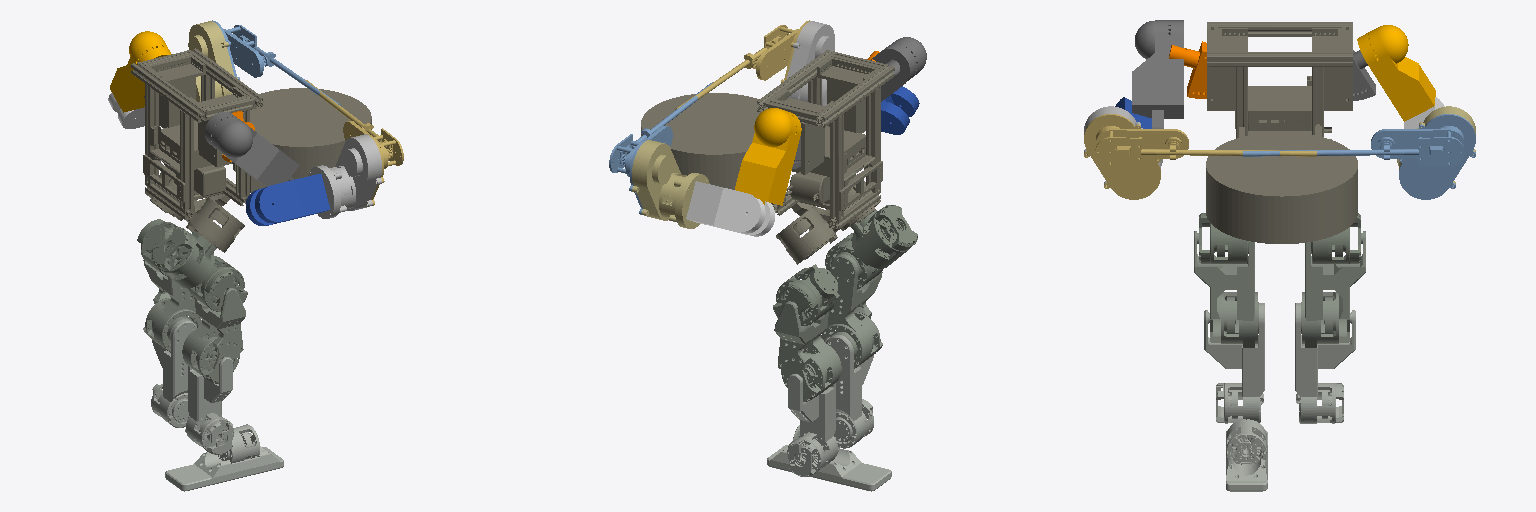
--- Render facts (derived) ---
Views: 3 orthographic renders of the robot side by side, from view 1: azimuth 30°, elevation 25°; view 2: azimuth 150°, elevation 25°; view 3: azimuth 270°, elevation 25°.
Model our_robot_251127 with 28 links and 27 joints (22 revolute, 5 fixed), rooted at base, posed every joint at zero.
Visible links, largest first — view 1: base, arm_right_wrist_attachment, leg_right_hip_pitch, arm_right_upper_arm, leg_right_ankle_roll, leg_right_knee_pitch, arm_right_fore_arm, leg_left_knee_pitch, leg_right_hip_roll, leg_left_hip_pitch, arm_left_upper_arm, assembly_3 (+5 smaller); view 2: base, arm_left_upper_arm, leg_left_hip_pitch, arm_left_wrist_attachment, leg_left_knee_pitch, leg_right_hip_pitch, arm_left_fore_arm, leg_right_knee_pitch, leg_right_hip_roll, leg_left_hip_yaw, leg_right_ankle_roll, assembly_5 (+5 smaller); view 3: base, assembly_3, assembly_5, arm_right_upper_arm, leg_right_hip_pitch, leg_left_hip_pitch, arm_left_upper_arm, leg_left_knee_pitch, leg_right_knee_pitch, leg_right_ankle_roll, leg_right_hip_yaw, leg_left_hip_yaw (+2 smaller).
Boxes of the visible links, x1,y1,x2,y2 form: base: (131, 48, 371, 252); arm_right_wrist_attachment: (308, 134, 381, 218); leg_right_hip_pitch: (182, 288, 245, 383); arm_right_upper_arm: (205, 112, 299, 186); leg_right_ankle_roll: (165, 424, 283, 491); leg_right_knee_pitch: (185, 357, 233, 454); arm_right_fore_arm: (246, 174, 330, 225); leg_left_knee_pitch: (151, 320, 196, 427); leg_right_hip_roll: (152, 227, 216, 288); leg_left_hip_pitch: (143, 260, 201, 352); arm_left_upper_arm: (110, 31, 170, 112); assembly_3: (212, 20, 340, 105); base: (641, 50, 894, 264); arm_left_upper_arm: (735, 108, 801, 205); leg_left_hip_pitch: (774, 301, 841, 401); arm_left_wrist_attachment: (632, 140, 709, 228); leg_left_knee_pitch: (787, 374, 838, 476); leg_right_hip_pitch: (821, 254, 882, 368); arm_left_fore_arm: (686, 181, 774, 236); leg_right_knee_pitch: (826, 335, 873, 448); leg_right_hip_roll: (851, 205, 917, 268); leg_left_hip_yaw: (773, 264, 839, 325); leg_right_ankle_roll: (767, 425, 891, 491); assembly_5: (675, 20, 809, 109); base: (1206, 22, 1357, 243); assembly_3: (1243, 114, 1475, 199); assembly_5: (1084, 114, 1316, 199); arm_right_upper_arm: (1132, 20, 1183, 128); leg_right_hip_pitch: (1194, 231, 1258, 347); leg_left_hip_pitch: (1301, 231, 1365, 347); arm_left_upper_arm: (1357, 25, 1435, 121); leg_left_knee_pitch: (1295, 303, 1355, 423); leg_right_knee_pitch: (1204, 303, 1264, 423); leg_right_ankle_roll: (1226, 419, 1267, 491); leg_right_hip_yaw: (1199, 213, 1248, 263); leg_left_hip_yaw: (1311, 213, 1360, 263).
Bounding box of the posed robot: 0.4913 × 0.6695 × 0.8133 m (x, y, z).
19 mesh visuals loaded from 24 distinct referenced files (19 binary STL); not drawn: 5 (reference not matched to a file when rendering).

robot.urdf — our_robot_251127:
<?xml version="1.0" ?>
<!-- Generated using onshape-to-robot -->
<!-- Onshape https://cad.onshape.com/documents/b79563c6b118af5153e16b95/w/07852d0b8411373f3cccadf1/e/af8d9cc5bcfd9d9f97125859 -->
<robot name="our_robot_251127">
  <!-- Link base -->
  <link name="base">
    <inertial>
      <origin xyz="0.0301256 0.000805373 0.658389" rpy="0 0 0"/>
      <mass value="4.42875"/>
      <inertia ixx="0.0542572" ixy="-0.000418288" ixz="-0.000518312" iyy="0.0707136" iyz="1.73031e-05" izz="0.0573367"/>
    </inertial>
    <!-- Part base_parts -->
    <collision>
      <origin xyz="-6.93889e-18 7.58942e-18 0.71" rpy="-1.13243e-14 -5.13117e-16 -1.5708"/>
      <geometry>
        <box size="0.15 0.14 0.23"/>
      </geometry>
    </collision>
    <visual>
      <origin xyz="0.0301256 0.000805373 0.658389" rpy="0 -0 0"/>
      <geometry>
        <mesh filename="package://assets/merged/base_visual.stl"/>
      </geometry>
      <material name="base_parts_material">
        <color rgba="0.52207 0.511557 0.454713 0.886298"/>
      </material>
    </visual>
  </link>
  <!-- Frame trunk (dummy link + fixed joint) -->
  <link name="trunk">
    <origin xyz="0 0 0" rpy="0 -0 0"/>
    <inertial>
      <origin xyz="0 0 0" rpy="0 0 0"/>
      <mass value="1e-9"/>
      <inertia ixx="0" ixy="0" ixz="0" iyy="0" iyz="0" izz="0"/>
    </inertial>
  </link>
  <joint name="trunk_frame" type="fixed">
    <origin xyz="-0.00025 2.39394e-17 0.7205" rpy="-5.13117e-16 1.13243e-14 -1.20616e-15"/>
    <parent link="base"/>
    <child link="trunk"/>
    <axis xyz="0 0 0"/>
  </joint>
  <!-- Link imu_2 -->
  <link name="imu_2">
    <inertial>
      <origin xyz="3.00866e-18 9.72026e-19 0.0025" rpy="0 0 0"/>
      <mass value="0.00197704"/>
      <inertia ixx="1.11441e-07" ixy="-4.0275e-38" ixz="0" iyy="4.06118e-08" iyz="0" izz="1.43815e-07"/>
    </inertial>
    <!-- Part imu_2_parts -->
    <visual>
      <origin xyz="0 9.72026e-19 0.0025" rpy="6.12323e-17 -1.13243e-14 1.20616e-15"/>
      <geometry>
        <mesh filename="package://assets/merged/imu_2_visual.stl"/>
      </geometry>
      <material name="imu_2_parts_material">
        <color rgba="0.141176 0.694118 0.65098 1"/>
      </material>
    </visual>
  </link>
  <!-- Frame imu (dummy link + fixed joint) -->
  <link name="imu">
    <origin xyz="0 0 0" rpy="0 -0 0"/>
    <inertial>
      <origin xyz="0 0 0" rpy="0 0 0"/>
      <mass value="1e-9"/>
      <inertia ixx="0" ixy="0" ixz="0" iyy="0" iyz="0" izz="0"/>
    </inertial>
  </link>
  <joint name="imu_frame" type="fixed">
    <origin xyz="0 -6.33816e-19 0.005" rpy="0 -0 -9.54491e-32"/>
    <parent link="imu_2"/>
    <child link="imu"/>
    <axis xyz="0 0 0"/>
  </joint>
  <!-- Joint from base to imu_2 -->
  <joint name="imu" type="fixed">
    <origin xyz="0.061722 -5.97549e-17 0.68" rpy="-6.12323e-17 1.13243e-14 -1.20616e-15"/>
    <parent link="base"/>
    <child link="imu_2"/>
    <axis xyz="0 0 1"/>
    <limit effort="20" velocity="15"/>
    <joint_properties friction="0.1"/>
  </joint>
  <!-- Link leg_left_hip_roll -->
  <link name="leg_left_hip_roll">
    <inertial>
      <origin xyz="-0.00410941 -0.000112596 -0.0464623" rpy="0 0 0"/>
      <mass value="0.83786"/>
      <inertia ixx="0.000979918" ixy="6.45954e-06" ixz="-1.63173e-05" iyy="0.000896043" iyz="-5.43389e-06" izz="0.000727678"/>
    </inertial>
    <!-- Part leg_left_hip_roll_parts -->
    <visual>
      <origin xyz="-0.00410941 -0.000112596 -0.0464623" rpy="-3.37047e-15 -0.785398 1.29382e-14"/>
      <geometry>
        <mesh filename="package://assets/merged/leg_left_hip_roll_visual.stl"/>
      </geometry>
      <material name="leg_left_hip_roll_parts_material">
        <color rgba="0.514202 0.546917 0.498371 0.699497"/>
      </material>
    </visual>
  </link>
  <!-- Link leg_left_hip_yaw -->
  <link name="leg_left_hip_yaw">
    <inertial>
      <origin xyz="-0.00411632 -8.63203e-05 0.0463382" rpy="0 0 0"/>
      <mass value="0.837683"/>
      <inertia ixx="0.000979031" ixy="-1.13217e-06" ixz="1.96352e-05" iyy="0.000898166" iyz="-5.91541e-06" izz="0.000724287"/>
    </inertial>
    <!-- Part leg_left_hip_yaw_parts -->
    <visual>
      <origin xyz="-0.00411632 -8.63203e-05 0.0463382" rpy="-3.14159 -0.785398 -1.5708"/>
      <geometry>
        <mesh filename="package://assets/merged/leg_left_hip_yaw_visual.stl"/>
      </geometry>
      <material name="leg_left_hip_yaw_parts_material">
        <color rgba="0.514113 0.546836 0.49828 0.699434"/>
      </material>
    </visual>
  </link>
  <!-- Link leg_left_hip_pitch -->
  <link name="leg_left_hip_pitch">
    <inertial>
      <origin xyz="0.0030405 0.120388 0.0210924" rpy="0 0 0"/>
      <mass value="0.947974"/>
      <inertia ixx="0.00286449" ixy="0.00012235" ixz="-2.15676e-05" iyy="0.00102465" iyz="0.000265775" izz="0.00259958"/>
    </inertial>
    <!-- Part leg_left_hip_pitch_parts -->
    <collision>
      <origin xyz="0.00597627 0.039 0.0295" rpy="1.5708 1.5708 0"/>
      <geometry>
        <cylinder length="0.13" radius="0.05"/>
      </geometry>
    </collision>
    <visual>
      <origin xyz="0.0030405 0.120388 0.0210924" rpy="1.5708 -7.51238e-15 -6.41154e-15"/>
      <geometry>
        <mesh filename="package://assets/merged/leg_left_hip_pitch_visual.stl"/>
      </geometry>
      <material name="leg_left_hip_pitch_parts_material">
        <color rgba="0.562885 0.5918 0.548895 0.734403"/>
      </material>
    </visual>
  </link>
  <!-- Link leg_left_knee_pitch -->
  <link name="leg_left_knee_pitch">
    <inertial>
      <origin xyz="-4.14041e-05 -0.112249 0.0257397" rpy="0 0 0"/>
      <mass value="0.653864"/>
      <inertia ixx="0.00230126" ixy="-4.24923e-07" ixz="1.36589e-06" iyy="0.000559753" iyz="3.7889e-05" izz="0.00203727"/>
    </inertial>
    <!-- Part leg_left_knee_pitch_parts -->
    <collision>
      <origin xyz="-5.40778e-15 -0.115 0.022" rpy="-1.5708 1.5708 0"/>
      <geometry>
        <cylinder length="0.15" radius="0.04"/>
      </geometry>
    </collision>
    <visual>
      <origin xyz="-4.14041e-05 -0.112249 0.0257397" rpy="1.5708 1.51122e-14 3.14159"/>
      <geometry>
        <mesh filename="package://assets/merged/leg_left_knee_pitch_visual.stl"/>
      </geometry>
      <material name="leg_left_knee_pitch_parts_material">
        <color rgba="0.664553 0.686049 0.654152 0.805901"/>
      </material>
    </visual>
  </link>
  <!-- Link leg_left_ankle_pitch -->
  <link name="leg_left_ankle_pitch">
    <inertial>
      <origin xyz="0.0131065 0.0273743 0.0274153" rpy="0 0 0"/>
      <mass value="0.106196"/>
      <inertia ixx="0.000188241" ixy="-2.50802e-05" ixz="-7.26755e-06" iyy="0.000142962" iyz="-7.72963e-06" izz="8.17202e-05"/>
    </inertial>
    <!-- Part leg_left_ankle_pitch_parts -->
    <visual>
      <origin xyz="0.0131065 0.0273743 0.0274153" rpy="1.5708 -3.63091e-15 -2.10124e-13"/>
      <geometry>
        <mesh filename="package://assets/merged/leg_left_ankle_pitch_visual.stl"/>
      </geometry>
      <material name="leg_left_ankle_pitch_parts_material">
        <color rgba="0.866867 0.866867 0.866867 0.928786"/>
      </material>
    </visual>
  </link>
  <!-- Link leg_left_ankle_roll -->
  <link name="leg_left_ankle_roll">
    <inertial>
      <origin xyz="2.29341e-05 0.0226611 0.0197836" rpy="0 0 0"/>
      <mass value="0.706476"/>
      <inertia ixx="0.00198705" ixy="5.37011e-07" ixz="-8.3949e-07" iyy="0.00190341" iyz="0.000143151" izz="0.000619673"/>
    </inertial>
    <!-- Part leg_left_ankle_roll_parts -->
    <collision>
      <origin xyz="1.45409e-14 0.03 0.006" rpy="1.5708 -1.5787e-13 -6.89171e-14"/>
      <geometry>
        <box size="0.072 0.22 0.04"/>
      </geometry>
    </collision>
    <visual>
      <origin xyz="2.29341e-05 0.0226611 0.0197836" rpy="1.5708 -1.5708 0"/>
      <geometry>
        <mesh filename="package://assets/merged/leg_left_ankle_roll_visual.stl"/>
      </geometry>
      <material name="leg_left_ankle_roll_parts_material">
        <color rgba="0.694564 0.714459 0.684938 0.831061"/>
      </material>
    </visual>
  </link>
  <!-- Frame left_foot (dummy link + fixed joint) -->
  <link name="left_foot">
    <origin xyz="0 0 0" rpy="0 -0 0"/>
    <inertial>
      <origin xyz="0 0 0" rpy="0 0 0"/>
      <mass value="1e-9"/>
      <inertia ixx="0" ixy="0" ixz="0" iyy="0" iyz="0" izz="0"/>
    </inertial>
  </link>
  <joint name="left_foot_frame" type="fixed">
    <origin xyz="1.57444e-14 0.0475 0.006" rpy="1.5708 -1.5708 0"/>
    <parent link="leg_left_ankle_roll"/>
    <child link="left_foot"/>
    <axis xyz="0 0 0"/>
  </joint>
  <!-- Joint from leg_left_ankle_pitch to leg_left_ankle_roll -->
  <joint name="leg_left_ankle_roll_joint" type="revolute">
    <origin xyz="0.03 0.05 0.025" rpy="5.04871e-29 1.5708 0"/>
    <parent link="leg_left_ankle_pitch"/>
    <child link="leg_left_ankle_roll"/>
    <axis xyz="0 0 1"/>
    <limit effort="20" velocity="15" lower="-0.261799" upper="0.261799"/>
    <joint_properties friction="0.1"/>
  </joint>
  <!-- Joint from leg_left_knee_pitch to leg_left_ankle_pitch -->
  <joint name="leg_left_ankle_pitch_joint" type="revolute">
    <origin xyz="-2.42341e-15 -0.16 -0.003" rpy="-1.42161e-14 1.87431e-14 -3.14159"/>
    <parent link="leg_left_knee_pitch"/>
    <child link="leg_left_ankle_pitch"/>
    <axis xyz="0 0 1"/>
    <limit effort="20" velocity="15" lower="-0.785398" upper="0.785398"/>
    <joint_properties friction="0.1"/>
  </joint>
  <!-- Joint from leg_left_hip_pitch to leg_left_knee_pitch -->
  <joint name="leg_left_knee_pitch_joint" type="revolute">
    <origin xyz="4.09395e-16 0.15 -0.018" rpy="-2.06358e-14 2.26246e-14 -3.14159"/>
    <parent link="leg_left_hip_pitch"/>
    <child link="leg_left_knee_pitch"/>
    <axis xyz="0 0 1"/>
    <limit effort="20" velocity="15" lower="-2.63789e-13" upper="2.44346"/>
    <joint_properties friction="0.1"/>
  </joint>
  <!-- Joint from leg_left_hip_yaw to leg_left_hip_pitch -->
  <joint name="leg_left_hip_pitch_joint" type="revolute">
    <origin xyz="0.027 -5.55112e-17 0.052" rpy="1.5708 -0.785398 -1.5708"/>
    <parent link="leg_left_hip_yaw"/>
    <child link="leg_left_hip_pitch"/>
    <axis xyz="0 0 1"/>
    <limit effort="20" velocity="15" lower="-1.89805" upper="0.981748"/>
    <joint_properties friction="0.1"/>
  </joint>
  <!-- Joint from leg_left_hip_roll to leg_left_hip_yaw -->
  <joint name="leg_left_hip_yaw_joint" type="revolute">
    <origin xyz="0.027 9.71445e-17 -0.052" rpy="-1.5708 1.18214e-15 -1.5708"/>
    <parent link="leg_left_hip_roll"/>
    <child link="leg_left_hip_yaw"/>
    <axis xyz="0 0 1"/>
    <limit effort="20" velocity="15" lower="-0.981748" upper="0.589049"/>
    <joint_properties friction="0.1"/>
  </joint>
  <!-- Joint from base to leg_left_hip_roll -->
  <joint name="leg_left_hip_roll_joint" type="revolute">
    <origin xyz="-0.0290919 0.08 0.542631" rpy="5.54477e-16 0.785398 -1.02056e-14"/>
    <parent link="base"/>
    <child link="leg_left_hip_roll"/>
    <axis xyz="0 0 1"/>
    <limit effort="20" velocity="15" lower="-0.174533" upper="1.5708"/>
    <joint_properties friction="0.1"/>
  </joint>
  <!-- Link leg_right_hip_roll -->
  <link name="leg_right_hip_roll">
    <inertial>
      <origin xyz="0.00410941 -0.00018505 -0.0464478" rpy="0 0 0"/>
      <mass value="0.83786"/>
      <inertia ixx="0.000979766" ixy="-3.69135e-06" ixz="1.57667e-05" iyy="0.000896334" iyz="-4.74708e-06" izz="0.000727235"/>
    </inertial>
    <!-- Part leg_right_hip_roll_parts -->
    <visual>
      <origin xyz="0.00410941 -0.00018505 -0.0464478" rpy="-8.73661e-15 -0.785398 -3.14159"/>
      <geometry>
        <mesh filename="package://assets/merged/leg_right_hip_roll_visual.stl"/>
      </geometry>
      <material name="leg_right_hip_roll_parts_material">
        <color rgba="0.514202 0.546917 0.498371 0.699497"/>
      </material>
    </visual>
  </link>
  <!-- Link leg_right_hip_yaw -->
  <link name="leg_right_hip_yaw">
    <inertial>
      <origin xyz="0.00411632 -1.3851e-05 0.0463238" rpy="0 0 0"/>
      <mass value="0.837683"/>
      <inertia ixx="0.000978901" ixy="-1.63559e-06" ixz="-1.90847e-05" iyy="0.000898454" iyz="-5.23378e-06" izz="0.000723868"/>
    </inertial>
    <!-- Part leg_right_hip_yaw_parts -->
    <visual>
      <origin xyz="0.00411632 -1.3851e-05 0.0463238" rpy="3.14159 -0.785398 -1.5708"/>
      <geometry>
        <mesh filename="package://assets/merged/leg_right_hip_yaw_visual.stl"/>
      </geometry>
      <material name="leg_right_hip_yaw_parts_material">
        <color rgba="0.514113 0.546836 0.49828 0.699434"/>
      </material>
    </visual>
  </link>
  <!-- Link leg_right_hip_pitch -->
  <link name="leg_right_hip_pitch">
    <inertial>
      <origin xyz="0.00319928 0.120388 -0.0210924" rpy="0 0 0"/>
      <mass value="0.947974"/>
      <inertia ixx="0.00286448" ixy="0.000117078" ixz="2.6845e-05" iyy="0.00102371" iyz="-0.000265774" izz="0.00259864"/>
    </inertial>
    <!-- Part leg_right_hip_pitch_parts -->
    <collision>
      <origin xyz="0.00597627 0.039 -0.0295" rpy="1.5708 1.5708 0"/>
      <geometry>
        <cylinder length="0.13" radius="0.05"/>
      </geometry>
    </collision>
    <visual>
      <origin xyz="0.00319928 0.120388 -0.0210924" rpy="1.5708 -6.12376e-16 1.36002e-15"/>
      <geometry>
        <mesh filename="package://assets/merged/leg_right_hip_pitch_visual.stl"/>
      </geometry>
      <material name="leg_right_hip_pitch_parts_material">
        <color rgba="0.562885 0.5918 0.548895 0.734403"/>
      </material>
    </visual>
  </link>
  <!-- Link leg_right_knee_pitch -->
  <link name="leg_right_knee_pitch">
    <inertial>
      <origin xyz="-5.09429e-05 0.112249 -0.0257397" rpy="0 0 0"/>
      <mass value="0.653864"/>
      <inertia ixx="0.00230126" ixy="1.34936e-06" ixz="-1.17826e-06" iyy="0.000559752" iyz="3.7889e-05" izz="0.00203727"/>
    </inertial>
    <!-- Part leg_right_knee_pitch_parts -->
    <collision>
      <origin xyz="1.15304e-14 0.115 -0.022" rpy="1.5708 1.5708 0"/>
      <geometry>
        <cylinder length="0.15" radius="0.04"/>
      </geometry>
    </collision>
    <visual>
      <origin xyz="-5.09429e-05 0.112249 -0.0257397" rpy="1.5708 -3.96107e-15 2.66454e-15"/>
      <geometry>
        <mesh filename="package://assets/merged/leg_right_knee_pitch_visual.stl"/>
      </geometry>
      <material name="leg_right_knee_pitch_parts_material">
        <color rgba="0.664553 0.686049 0.654152 0.805901"/>
      </material>
    </visual>
  </link>
  <!-- Link leg_right_ankle_pitch -->
  <link name="leg_right_ankle_pitch">
    <inertial>
      <origin xyz="0.0131065 0.0273743 -0.0274153" rpy="0 0 0"/>
      <mass value="0.106196"/>
      <inertia ixx="0.000188241" ixy="-2.50802e-05" ixz="7.26754e-06" iyy="0.000142962" iyz="7.72962e-06" izz="8.17203e-05"/>
    </inertial>
    <!-- Part leg_right_ankle_pitch_parts -->
    <visual>
      <origin xyz="0.0131065 0.0273743 -0.0274153" rpy="1.5708 -1.46608e-14 9.60065e-14"/>
      <geometry>
        <mesh filename="package://assets/merged/leg_right_ankle_pitch_visual.stl"/>
      </geometry>
      <material name="leg_right_ankle_pitch_parts_material">
        <color rgba="0.866867 0.866867 0.866867 0.928786"/>
      </material>
    </visual>
  </link>
  <!-- Link leg_right_ankle_roll -->
  <link name="leg_right_ankle_roll">
    <inertial>
      <origin xyz="2.29341e-05 0.0226611 0.0197836" rpy="0 0 0"/>
      <mass value="0.706476"/>
      <inertia ixx="0.00198705" ixy="5.37011e-07" ixz="-8.3949e-07" iyy="0.00190341" iyz="0.000143151" izz="0.000619673"/>
    </inertial>
    <!-- Part leg_right_ankle_roll_parts -->
    <collision>
      <origin xyz="5.16957e-15 0.03 0.006" rpy="1.5708 5.10932e-13 -1.95972e-13"/>
      <geometry>
        <box size="0.072 0.22 0.04"/>
      </geometry>
    </collision>
    <visual>
      <origin xyz="2.29341e-05 0.0226611 0.0197836" rpy="1.5708 -1.5708 0"/>
      <geometry>
        <mesh filename="package://assets/merged/leg_right_ankle_roll_visual.stl"/>
      </geometry>
      <material name="leg_right_ankle_roll_parts_material">
        <color rgba="0.694564 0.714459 0.684938 0.831061"/>
      </material>
    </visual>
  </link>
  <!-- Frame right_foot (dummy link + fixed joint) -->
  <link name="right_foot">
    <origin xyz="0 0 0" rpy="0 -0 0"/>
    <inertial>
      <origin xyz="0 0 0" rpy="0 0 0"/>
      <mass value="1e-9"/>
      <inertia ixx="0" ixy="0" ixz="0" iyy="0" iyz="0" izz="0"/>
    </inertial>
  </link>
  <joint name="right_foot_frame" type="fixed">
    <origin xyz="8.59729e-15 0.0475 0.006" rpy="1.5708 -1.5708 0"/>
    <parent link="leg_right_ankle_roll"/>
    <child link="right_foot"/>
    <axis xyz="0 0 0"/>
  </joint>
  <!-- Joint from leg_right_ankle_pitch to leg_right_ankle_roll -->
  <joint name="leg_right_ankle_roll_joint" type="revolute">
    <origin xyz="0.03 0.05 -0.025" rpy="-6.80837e-17 1.5708 0"/>
    <parent link="leg_right_ankle_pitch"/>
    <child link="leg_right_ankle_roll"/>
    <axis xyz="0 0 1"/>
    <limit effort="20" velocity="15" lower="-0.261799" upper="0.261799"/>
    <joint_properties friction="0.1"/>
  </joint>
  <!-- Joint from leg_right_knee_pitch to leg_right_ankle_pitch -->
  <joint name="leg_right_ankle_pitch_joint" type="revolute">
    <origin xyz="1.37911e-15 0.16 0.003" rpy="1.12133e-14 1.06998e-14 -9.3342e-14"/>
    <parent link="leg_right_knee_pitch"/>
    <child link="leg_right_ankle_pitch"/>
    <axis xyz="0 0 1"/>
    <limit effort="20" velocity="15" lower="-0.785398" upper="0.785398"/>
    <joint_properties friction="0.1"/>
  </joint>
  <!-- Joint from leg_right_hip_pitch to leg_right_knee_pitch -->
  <joint name="leg_right_knee_pitch_joint" type="revolute">
    <origin xyz="-2.77556e-17 0.15 0.018" rpy="3.28904e-15 3.34869e-15 -1.30451e-15"/>
    <parent link="leg_right_hip_pitch"/>
    <child link="leg_right_knee_pitch"/>
    <axis xyz="0 0 1"/>
    <limit effort="20" velocity="15" lower="-1.1191e-13" upper="2.44346"/>
    <joint_properties friction="0.1"/>
  </joint>
  <!-- Joint from leg_right_hip_yaw to leg_right_hip_pitch -->
  <joint name="leg_right_hip_pitch_joint" type="revolute">
    <origin xyz="-0.027 1.22125e-15 0.052" rpy="1.5708 -0.785398 -1.5708"/>
    <parent link="leg_right_hip_yaw"/>
    <child link="leg_right_hip_pitch"/>
    <axis xyz="0 0 1"/>
    <limit effort="20" velocity="15" lower="-1.89805" upper="0.981748"/>
    <joint_properties friction="0.1"/>
  </joint>
  <!-- Joint from leg_right_hip_roll to leg_right_hip_yaw -->
  <joint name="leg_right_hip_yaw_joint" type="revolute">
    <origin xyz="-0.027 3.46945e-16 -0.052" rpy="-1.5708 2.67807e-15 1.5708"/>
    <parent link="leg_right_hip_roll"/>
    <child link="leg_right_hip_yaw"/>
    <axis xyz="0 0 1"/>
    <limit effort="20" velocity="15" lower="-0.589049" upper="0.981748"/>
    <joint_properties friction="0.1"/>
  </joint>
  <!-- Joint from base to leg_right_hip_roll -->
  <joint name="leg_right_hip_roll_joint" type="revolute">
    <origin xyz="-0.0290919 -0.08 0.542631" rpy="7.85621e-15 -0.785398 3.14159"/>
    <parent link="base"/>
    <child link="leg_right_hip_roll"/>
    <axis xyz="0 0 1"/>
    <limit effort="20" velocity="15" lower="-1.5708" upper="0.174533"/>
    <joint_properties friction="0.1"/>
  </joint>
  <!-- Link arm_left_elbow_arm -->
  <link name="arm_left_elbow_arm">
    <inertial>
      <origin xyz="0.0173463 -0.0262837 -0.02" rpy="0 0 0"/>
      <mass value="0.244156"/>
      <inertia ixx="0.00021175" ixy="-6.74838e-05" ixz="1.85202e-12" iyy="0.000169925" iyz="3.71923e-12" izz="0.000326012"/>
    </inertial>
    <!-- Part arm_left_elbow_arm_parts -->
    <visual>
      <origin xyz="0.0173463 -0.0262837 -0.02" rpy="-1.5708 -1.5708 0"/>
      <geometry>
        <mesh filename="package://assets/merged/arm_left_elbow_arm_visual.stl"/>
      </geometry>
      <material name="arm_left_elbow_arm_parts_material">
        <color rgba="0.498039 0.498039 0.498039 1"/>
      </material>
    </visual>
  </link>
  <!-- Link arm_left_upper_arm -->
  <link name="arm_left_upper_arm">
    <inertial>
      <origin xyz="-4.35413e-06 -0.0563202 0.0200462" rpy="0 0 0"/>
      <mass value="0.767868"/>
      <inertia ixx="0.00201927" ixy="1.71643e-07" ixz="3.28293e-08" iyy="0.00053531" iyz="3.9818e-05" izz="0.00207226"/>
    </inertial>
    <!-- Part arm_left_upper_arm_parts -->
    <visual>
      <origin xyz="-4.35413e-06 -0.0563202 0.0200462" rpy="-2.0944 5.71517e-15 6.93889e-18"/>
      <geometry>
        <mesh filename="package://assets/merged/arm_left_upper_arm_visual.stl"/>
      </geometry>
      <material name="arm_left_upper_arm_parts_material">
        <color rgba="0.980392 0.713725 0.00392157 1"/>
      </material>
    </visual>
  </link>
  <!-- Link arm_left_fore_arm -->
  <link name="arm_left_fore_arm">
    <inertial>
      <origin xyz="0.0504542 8.32667e-16 0.00856487" rpy="0 0 0"/>
      <mass value="0.622"/>
      <inertia ixx="0.000442491" ixy="1.29427e-18" ixz="4.23769e-05" iyy="0.00109007" iyz="3.79471e-19" izz="0.00115191"/>
    </inertial>
    <!-- Part arm_left_fore_arm_parts -->
    <visual>
      <origin xyz="0.0504542 8.32667e-16 0.00856487" rpy="1.0472 -6.68193e-15 6.74561e-17"/>
      <geometry>
        <mesh filename="package://assets/merged/arm_left_fore_arm_visual.stl"/>
      </geometry>
      <material name="arm_left_fore_arm_parts_material">
        <color rgba="0.917647 0.917647 0.917647 1"/>
      </material>
    </visual>
  </link>
  <!-- Link arm_left_wrist_attachment -->
  <link name="arm_left_wrist_attachment">
    <inertial>
      <origin xyz="0.00967916 -0.0167645 -0.0629049" rpy="0 0 0"/>
      <mass value="0.421572"/>
      <inertia ixx="0.000969387" ixy="0.000213867" ixz="0.000104309" iyy="0.00072152" iyz="-0.000180668" izz="0.00108284"/>
    </inertial>
    <!-- Part arm_left_wrist_attachment_parts -->
    <visual>
      <origin xyz="0.00967916 -0.0167645 -0.0629049" rpy="1.5708 1.5708 0"/>
      <geometry>
        <mesh filename="package://assets/merged/arm_left_wrist_attachment_visual.stl"/>
      </geometry>
      <material name="arm_left_wrist_attachment_parts_material">
        <color rgba="0.768415 0.730429 0.533864 1"/>
      </material>
    </visual>
  </link>
  <!-- Link assembly_3 -->
  <link name="assembly_3">
    <inertial>
      <origin xyz="-0.0420954 0.010508 -0.0546924" rpy="0 0 0"/>
      <mass value="0.340491"/>
      <inertia ixx="0.000470539" ixy="-3.42825e-05" ixz="-0.000298021" iyy="0.00170361" iyz="-7.28009e-05" izz="0.00178654"/>
    </inertial>
    <!-- Part assembly_3_parts -->
    <visual>
      <origin xyz="-0.0420954 0.010508 -0.0546924" rpy="1.5708 1.5708 0"/>
      <geometry>
        <mesh filename="package://assets/merged/assembly_3_visual.stl"/>
      </geometry>
      <material name="assembly_3_parts_material">
        <color rgba="0.52424 0.650351 0.786517 1"/>
      </material>
    </visual>
  </link>
  <!-- Joint from arm_left_wrist_attachment to assembly_3 -->
  <joint name="left_chopstick_joint" type="revolute">
    <origin xyz="0.039 -0.06755 -0.076" rpy="0 3.61005e-46 -4.81696e-46"/>
    <parent link="arm_left_wrist_attachment"/>
    <child link="assembly_3"/>
    <axis xyz="0 0 1"/>
    <limit effort="20" velocity="15" lower="-0.698132" upper="1.5708"/>
    <joint_properties friction="0.1"/>
  </joint>
  <!-- Joint from arm_left_fore_arm to arm_left_wrist_attachment -->
  <joint name="left_wrist_attachment_joint" type="revolute">
    <origin xyz="0.0915 4.996e-16 0.0025" rpy="-1.5708 -1.0472 1.5708"/>
    <parent link="arm_left_fore_arm"/>
    <child link="arm_left_wrist_attachment"/>
    <axis xyz="0 0 1"/>
    <limit effort="20" velocity="15" lower="-1.5708" upper="1.5708"/>
    <joint_properties friction="0.1"/>
  </joint>
  <!-- Joint from arm_left_upper_arm to arm_left_fore_arm -->
  <joint name="left_fore_arm_joint" type="revolute">
    <origin xyz="-3.91003e-16 -0.16 0.03" rpy="-3.14159 -9.66762e-16 7.4395e-17"/>
    <parent link="arm_left_upper_arm"/>
    <child link="arm_left_fore_arm"/>
    <axis xyz="0 0 1"/>
    <limit effort="20" velocity="15" lower="-1.5708" upper="1.5708"/>
    <joint_properties friction="0.1"/>
  </joint>
  <!-- Joint from arm_left_elbow_arm to arm_left_upper_arm -->
  <joint name="left_upper_arm_joint" type="revolute">
    <origin xyz="0.078032 0.0248446 -0.02" rpy="0.523599 -1.5708 0"/>
    <parent link="arm_left_elbow_arm"/>
    <child link="arm_left_upper_arm"/>
    <axis xyz="0 0 1"/>
    <limit effort="20" velocity="15" lower="-1.5708" upper="1.5708"/>
    <joint_properties friction="0.1"/>
  </joint>
  <!-- Joint from base to arm_left_elbow_arm -->
  <joint name="left_shoulder_joint" type="revolute">
    <origin xyz="0.02 0.115 0.7985" rpy="1.5708 7.58837e-14 1.5708"/>
    <parent link="base"/>
    <child link="arm_left_elbow_arm"/>
    <axis xyz="0 0 1"/>
    <limit effort="20" velocity="15" lower="-0.523599" upper="1.5708"/>
    <joint_properties friction="0.1"/>
  </joint>
  <!-- Link arm_right_elbow_arm -->
  <link name="arm_right_elbow_arm">
    <inertial>
      <origin xyz="-0.0173464 -0.0262837 -0.02" rpy="0 0 0"/>
      <mass value="0.244156"/>
      <inertia ixx="0.00021175" ixy="6.74839e-05" ixz="1.45747e-12" iyy="0.000169925" iyz="-1.95898e-12" izz="0.000326012"/>
    </inertial>
    <!-- Part arm_right_elbow_arm_parts -->
    <visual>
      <origin xyz="-0.0173464 -0.0262837 -0.02" rpy="-1.5708 -1.5708 0"/>
      <geometry>
        <mesh filename="package://assets/merged/arm_right_elbow_arm_visual.stl"/>
      </geometry>
      <material name="arm_right_elbow_arm_parts_material">
        <color rgba="0.972549 0.529412 0.00392157 1"/>
      </material>
    </visual>
  </link>
  <!-- Link arm_right_upper_arm -->
  <link name="arm_right_upper_arm">
    <inertial>
      <origin xyz="-4.31102e-06 0.0563203 0.0200462" rpy="0 0 0"/>
      <mass value="0.767867"/>
      <inertia ixx="0.00201926" ixy="-1.69697e-07" ixz="3.33449e-08" iyy="0.000535309" iyz="-3.98183e-05" izz="0.00207225"/>
    </inertial>
    <!-- Part arm_right_upper_arm_parts -->
    <visual>
      <origin xyz="-4.31102e-06 0.0563203 0.0200462" rpy="2.0944 -9.63516e-15 1.38778e-17"/>
      <geometry>
        <mesh filename="package://assets/merged/arm_right_upper_arm_visual.stl"/>
      </geometry>
      <material name="arm_right_upper_arm_parts_material">
        <color rgba="0.498039 0.498039 0.498039 1"/>
      </material>
    </visual>
  </link>
  <!-- Link arm_right_fore_arm -->
  <link name="arm_right_fore_arm">
    <inertial>
      <origin xyz="0.0504542 -4.44089e-16 0.00856487" rpy="0 0 0"/>
      <mass value="0.622"/>
      <inertia ixx="0.000442491" ixy="4.19451e-18" ixz="4.23769e-05" iyy="0.00109007" iyz="7.58942e-19" izz="0.00115191"/>
    </inertial>
    <!-- Part arm_right_fore_arm_parts -->
    <visual>
      <origin xyz="0.0504542 -4.44089e-16 0.00856487" rpy="-1.0472 9.58869e-15 1.03623e-14"/>
      <geometry>
        <mesh filename="package://assets/merged/arm_right_fore_arm_visual.stl"/>
      </geometry>
      <material name="arm_right_fore_arm_parts_material">
        <color rgba="0.231373 0.380392 0.705882 1"/>
      </material>
    </visual>
  </link>
  <!-- Link arm_right_wrist_attachment -->
  <link name="arm_right_wrist_attachment">
    <inertial>
      <origin xyz="-0.00766686 -0.0132792 -0.0655717" rpy="0 0 0"/>
      <mass value="0.577236"/>
      <inertia ixx="0.00108463" ixy="-0.000234266" ixz="-0.00010399" iyy="0.000813213" iyz="-0.000180116" izz="0.00122677"/>
    </inertial>
    <!-- Part arm_right_wrist_attachment_parts -->
    <visual>
      <origin xyz="-0.00766686 -0.0132792 -0.0655717" rpy="1.5708 1.5708 0"/>
      <geometry>
        <mesh filename="package://assets/merged/arm_right_wrist_attachment_visual.stl"/>
      </geometry>
      <material name="arm_right_wrist_attachment_parts_material">
        <color rgba="0.754654 0.7514 0.749428 1"/>
      </material>
    </visual>
  </link>
  <!-- Link assembly_5 -->
  <link name="assembly_5">
    <inertial>
      <origin xyz="0.0433542 0.00896499 -0.0567516" rpy="0 0 0"/>
      <mass value="0.321318"/>
      <inertia ixx="0.000428609" ixy="2.32001e-05" ixz="0.000283229" iyy="0.00166622" iyz="-5.46684e-05" izz="0.00175598"/>
    </inertial>
    <!-- Part assembly_5_parts -->
    <visual>
      <origin xyz="0.0433542 0.00896499 -0.0567516" rpy="1.5708 1.5708 0"/>
      <geometry>
        <mesh filename="package://assets/merged/assembly_5_visual.stl"/>
      </geometry>
      <material name="assembly_5_parts_material">
        <color rgba="0.793943 0.706579 0.436665 1"/>
      </material>
    </visual>
  </link>
  <!-- Joint from arm_right_wrist_attachment to assembly_5 -->
  <joint name="right_chopstick_joint" type="revolute">
    <origin xyz="-0.039 -0.06755 -0.076" rpy="-5.55112e-17 -2.27394e-42 1.37801e-29"/>
    <parent link="arm_right_wrist_attachment"/>
    <child link="assembly_5"/>
    <axis xyz="0 0 1"/>
    <limit effort="20" velocity="15" lower="-0.698132" upper="1.5708"/>
    <joint_properties friction="0.1"/>
  </joint>
  <!-- Joint from arm_right_fore_arm to arm_right_wrist_attachment -->
  <joint name="right_wrist_attachment_joint" type="revolute">
    <origin xyz="0.0915 -4.44089e-16 0.0025" rpy="-1.5708 1.0472 1.5708"/>
    <parent link="arm_right_fore_arm"/>
    <child link="arm_right_wrist_attachment"/>
    <axis xyz="0 0 1"/>
    <limit effort="20" velocity="15" lower="-1.5708" upper="1.5708"/>
    <joint_properties friction="0.1"/>
  </joint>
  <!-- Joint from arm_right_upper_arm to arm_right_fore_arm -->
  <joint name="right_fore_arm_joint" type="revolute">
    <origin xyz="-2.5874e-15 0.16 0.03" rpy="3.14159 -4.64725e-17 1.03762e-14"/>
    <parent link="arm_right_upper_arm"/>
    <child link="arm_right_fore_arm"/>
    <axis xyz="0 0 1"/>
    <limit effort="20" velocity="15" lower="-1.5708" upper="1.5708"/>
    <joint_properties friction="0.1"/>
  </joint>
  <!-- Joint from arm_right_elbow_arm to arm_right_upper_arm -->
  <joint name="right_upper_arm_joint" type="revolute">
    <origin xyz="-0.078032 0.0248446 -0.02" rpy="2.61799 -1.5708 0"/>
    <parent link="arm_right_elbow_arm"/>
    <child link="arm_right_upper_arm"/>
    <axis xyz="0 0 1"/>
    <limit effort="20" velocity="15" lower="-1.5708" upper="1.5708"/>
    <joint_properties friction="0.1"/>
  </joint>
  <!-- Joint from base to arm_right_elbow_arm -->
  <joint name="right_shoulder_joint" type="revolute">
    <origin xyz="0.02 -0.115 0.7985" rpy="1.5708 1.28852e-15 1.5708"/>
    <parent link="base"/>
    <child link="arm_right_elbow_arm"/>
    <axis xyz="0 0 1"/>
    <limit effort="20" velocity="15" lower="-0.523599" upper="1.5708"/>
    <joint_properties friction="0.1"/>
  </joint>
</robot>
